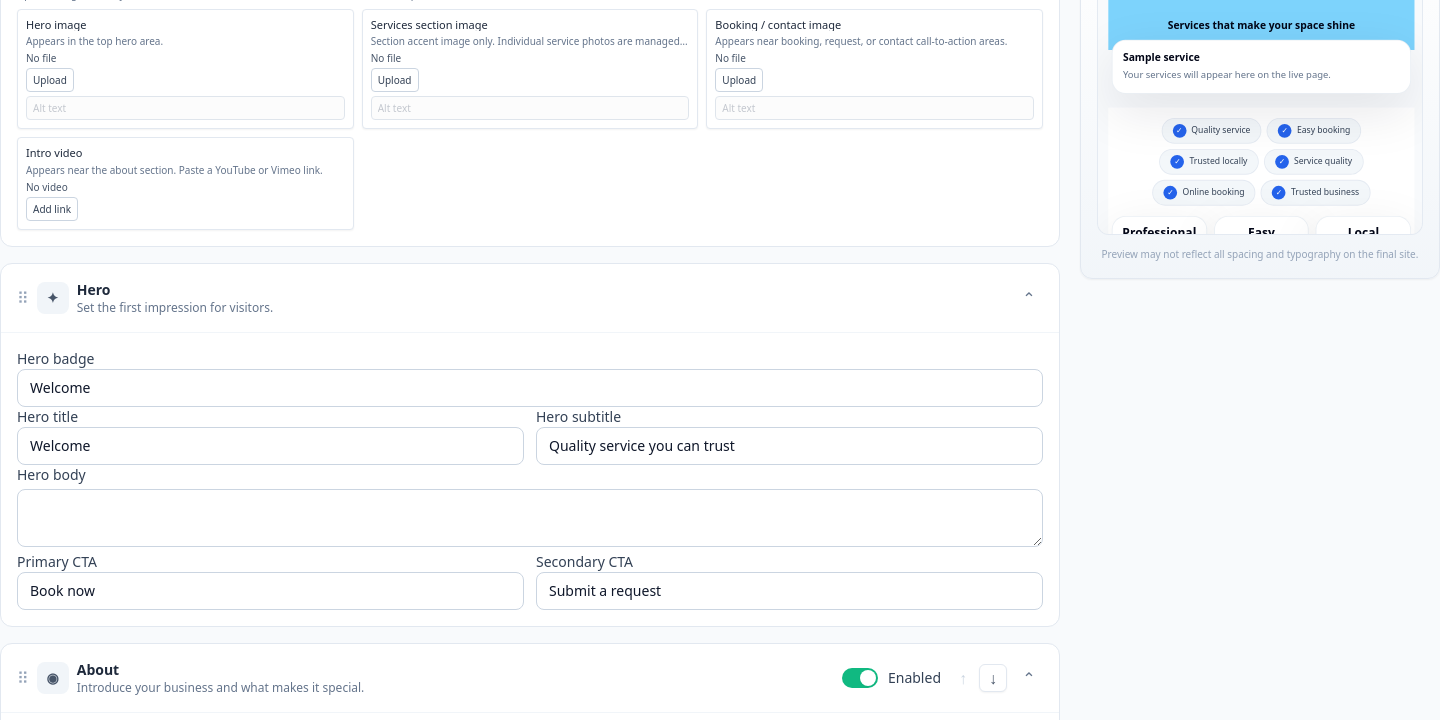
Scenario: PublicProfileSettingsCard › updates live preview when hero badge text changes
(page scrolled)
Replace the text in the field with test id "mini-site-hero-badge-text" with "Studio badge" at [530, 388], box [17, 369, 1043, 407]
(page scrolled)
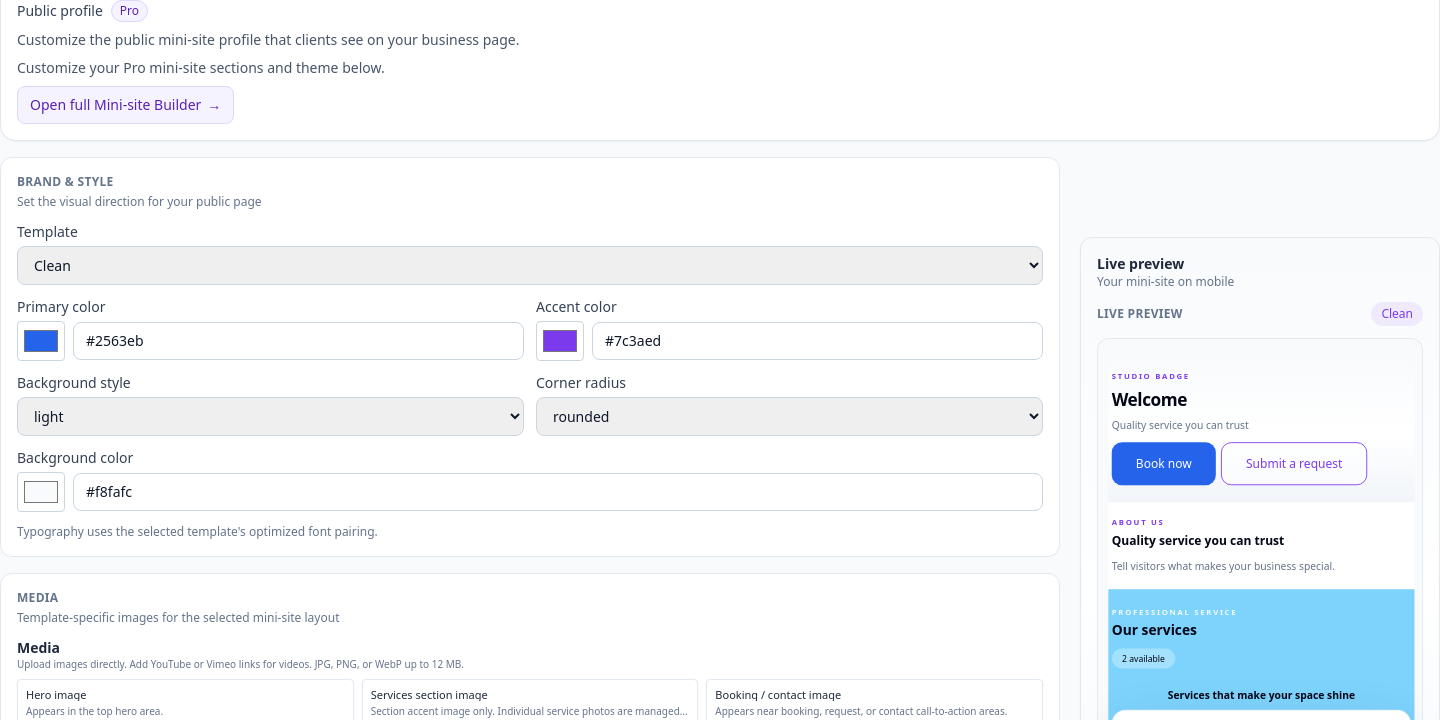
Expected: the text with test id "mini-site-preview-hero-badge" reads "Studio badge", [1112, 370, 1190, 381]
